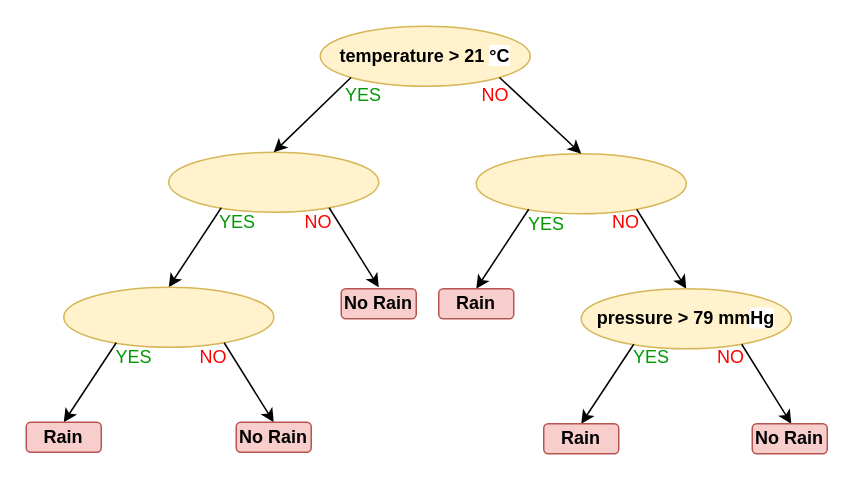
This 854x480 diagram has some shape labels left out. The shapes that lost their labels are listed below. From the top down, each one's centre as x and y in pixels, then its label:
At (x=273, y=181): "wind > 3.2 km/h".
At (x=580, y=183): "wind > 7.2 km/h".
At (x=168, y=316): "pressure > 66 mm Hg".
